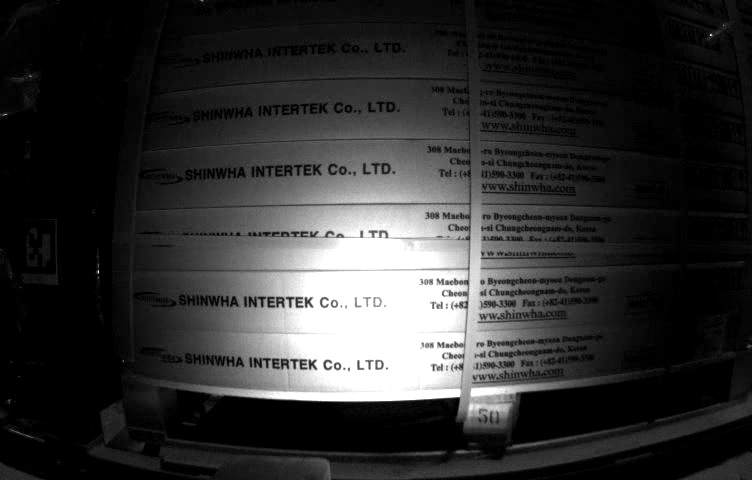True Barcode: (693, 315, 728, 363)
